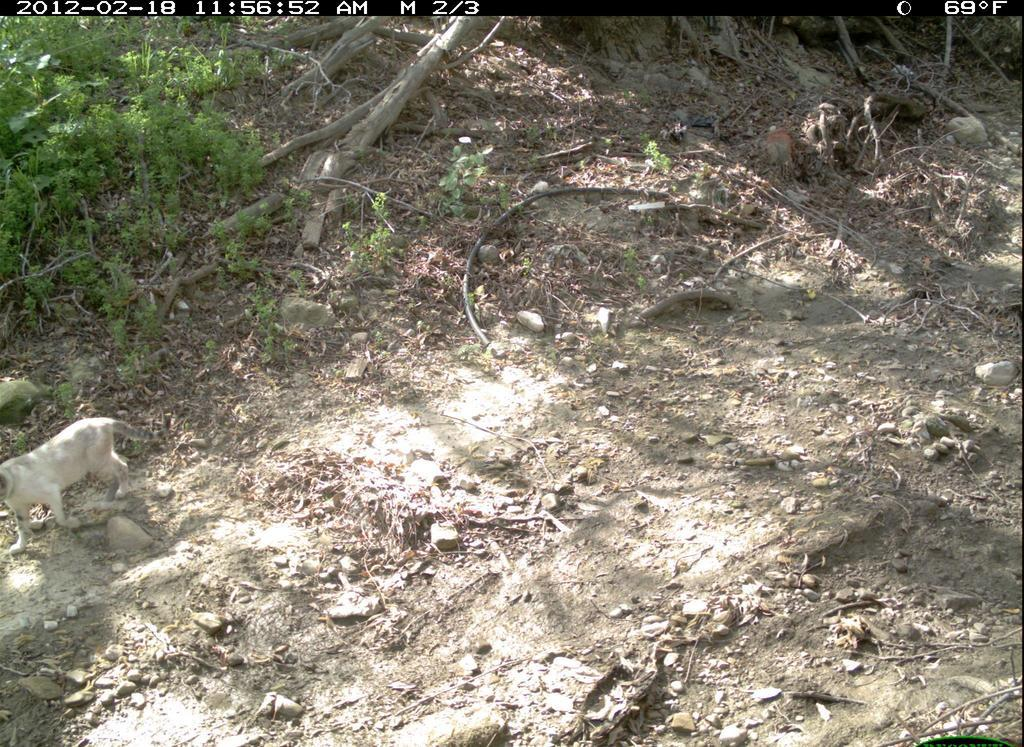cat: (1, 404, 176, 564)
